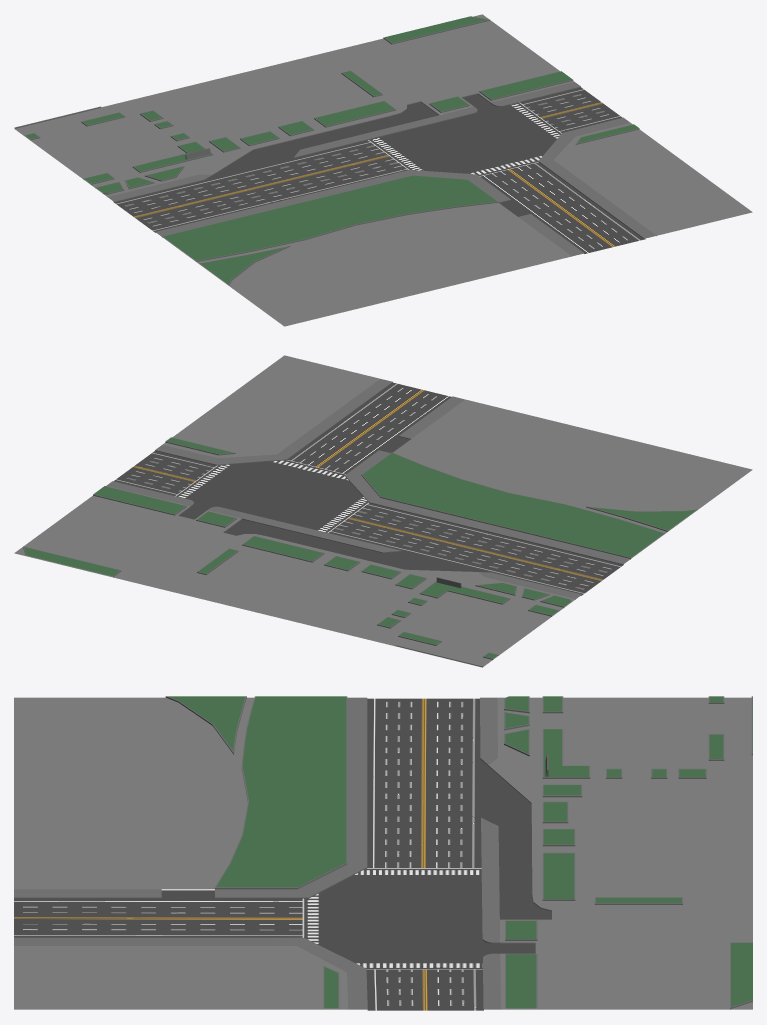
Rendered from Terrain_07.FBX.
The picture shows the model from 3 angles, top to bottom: view 1: azimuth 30°, elevation 25°; view 2: azimuth 150°, elevation 25°; view 3: azimuth 270°, elevation 25°; orthographic projection. The views are drawn at different scales.
Parts seen in each view (by area): view 1: Terrain_07; view 2: Terrain_07; view 3: Terrain_07.
Part boxes in pixels (x1,y1,x2,y2): Terrain_07: (14,14,752,326); Terrain_07: (14,355,752,667); Terrain_07: (14,696,752,1010).
Bounding box in the file's own units: 200 × 2.68 × 200.
